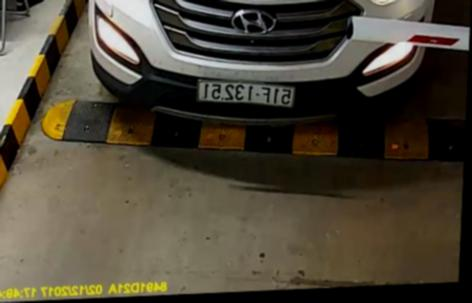License_Plate: (193, 74, 300, 110)
